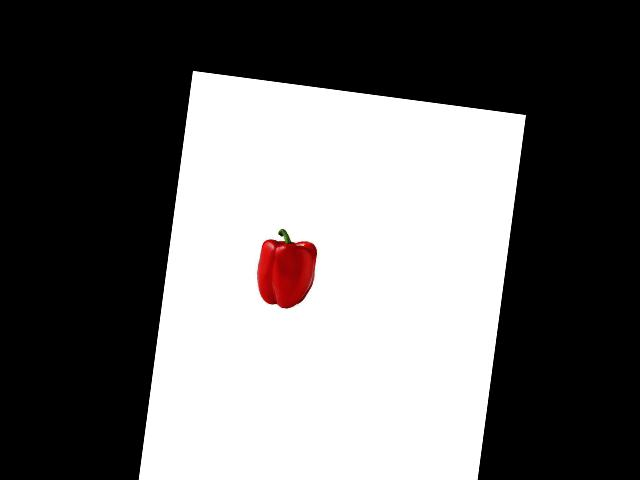bell_pepper: (249, 225, 323, 314)
